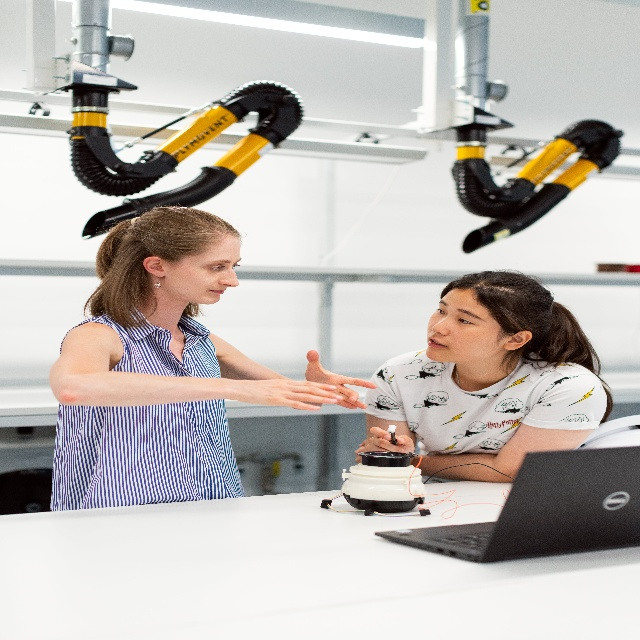Sin_guantes: (304, 348, 378, 411), (241, 379, 344, 410), (364, 426, 416, 454), (355, 439, 368, 464)
